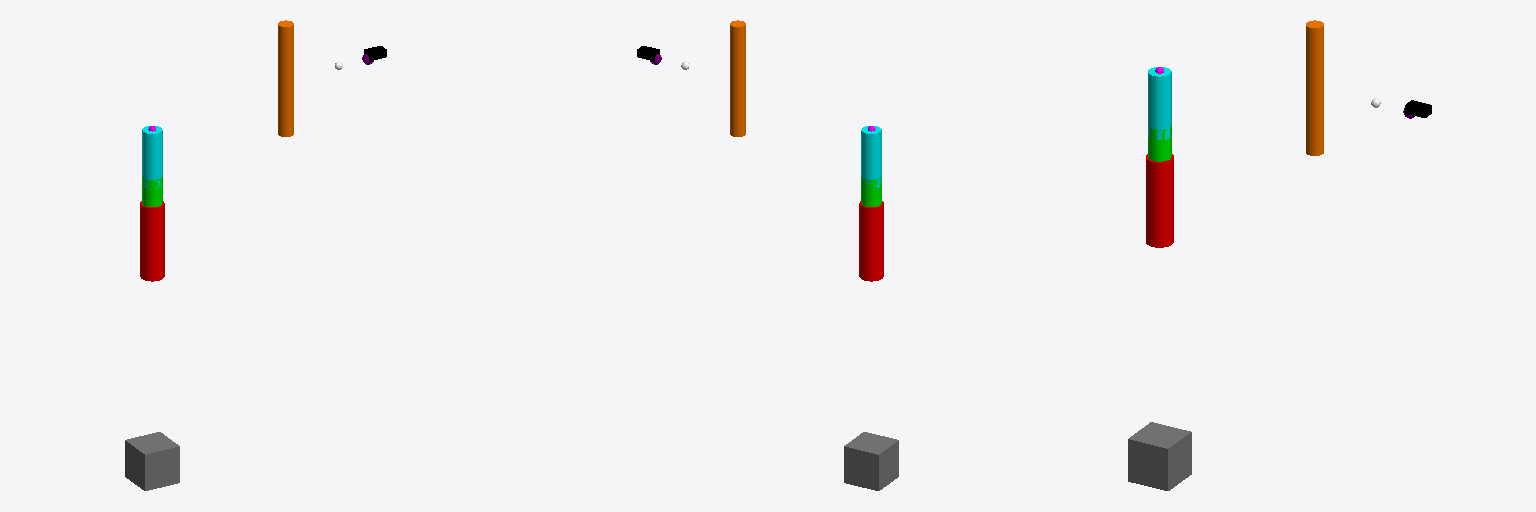
robot.urdf — pragati_robot:
<?xml version="1.0"?>
<robot name="pragati_robot">
  
  <!-- Base link -->
  <link name="base_link">
    <visual>
      <geometry>
        <box size="0.1 0.1 0.1"/>
      </geometry>
      <material name="grey">
        <color rgba="0.5 0.5 0.5 1"/>
      </material>
    </visual>
    <inertial>
      <mass value="1.0"/>
      <inertia ixx="1.0" ixy="0.0" ixz="0.0" iyy="1.0" iyz="0.0" izz="1.0"/>
    </inertial>
  </link>

  <!-- Yanthra origin link - the main reference frame -->
  <link name="yanthra_link">
    <visual>
      <geometry>
        <cylinder radius="0.05" length="0.02"/>
      </geometry>
      <material name="blue">
        <color rgba="0.0 0.0 1.0 1"/>
      </material>
    </visual>
    <inertial>
      <mass value="0.1"/>
      <inertia ixx="0.1" ixy="0.0" ixz="0.0" iyy="0.1" iyz="0.0" izz="0.1"/>
    </inertial>
  </link>

  <!-- Joint2 link (prismatic - height/vertical movement) -->
  <link name="joint2">
    <visual>
      <geometry>
        <cylinder radius="0.03" length="0.2"/>
      </geometry>
      <material name="red">
        <color rgba="1.0 0.0 0.0 1"/>
      </material>
    </visual>
    <inertial>
      <mass value="0.5"/>
      <inertia ixx="0.5" ixy="0.0" ixz="0.0" iyy="0.5" iyz="0.0" izz="0.5"/>
    </inertial>
  </link>

  <!-- Joint3 link (revolute - phi/vertical rotation) -->
  <link name="joint3">
    <visual>
      <geometry>
        <cylinder radius="0.025" length="0.15"/>
      </geometry>
      <material name="green">
        <color rgba="0.0 1.0 0.0 1"/>
      </material>
    </visual>
    <inertial>
      <mass value="0.3"/>
      <inertia ixx="0.3" ixy="0.0" ixz="0.0" iyy="0.3" iyz="0.0" izz="0.3"/>
    </inertial>
  </link>

  <!-- Link3 - frame used for coordinate transformations -->
  <link name="link3">
    <visual>
      <geometry>
        <sphere radius="0.01"/>
      </geometry>
      <material name="yellow">
        <color rgba="1.0 1.0 0.0 1"/>
      </material>
    </visual>
    <inertial>
      <mass value="0.01"/>
      <inertia ixx="0.01" ixy="0.0" ixz="0.0" iyy="0.01" iyz="0.0" izz="0.01"/>
    </inertial>
  </link>

  <!-- Joint4 link (revolute - theta/horizontal rotation) -->
  <link name="joint4">
    <visual>
      <geometry>
        <cylinder radius="0.025" length="0.15"/>
      </geometry>
      <material name="cyan">
        <color rgba="0.0 1.0 1.0 1"/>
      </material>
    </visual>
    <inertial>
      <mass value="0.3"/>
      <inertia ixx="0.3" ixy="0.0" ixz="0.0" iyy="0.3" iyz="0.0" izz="0.3"/>
    </inertial>
  </link>

  <!-- Link4 - frame used for coordinate transformations -->
  <link name="link4">
    <visual>
      <geometry>
        <sphere radius="0.01"/>
      </geometry>
      <material name="magenta">
        <color rgba="1.0 0.0 1.0 1"/>
      </material>
    </visual>
    <inertial>
      <mass value="0.01"/>
      <inertia ixx="0.01" ixy="0.0" ixz="0.0" iyy="0.01" iyz="0.0" izz="0.01"/>
    </inertial>
  </link>

  <!-- Joint5 link (prismatic - r/radial extension) -->
  <link name="joint5">
    <visual>
      <geometry>
        <cylinder radius="0.02" length="0.3"/>
      </geometry>
      <material name="orange">
        <color rgba="1.0 0.5 0.0 1"/>
      </material>
    </visual>
    <inertial>
      <mass value="0.2"/>
      <inertia ixx="0.2" ixy="0.0" ixz="0.0" iyy="0.2" iyz="0.0" izz="0.2"/>
    </inertial>
  </link>

  <!-- Link5 - frame used for coordinate transformations -->
  <link name="link5">
    <visual>
      <geometry>
        <sphere radius="0.01"/>
      </geometry>
      <material name="white">
        <color rgba="1.0 1.0 1.0 1"/>
      </material>
    </visual>
    <inertial>
      <mass value="0.01"/>
      <inertia ixx="0.01" ixy="0.0" ixz="0.0" iyy="0.01" iyz="0.0" izz="0.01"/>
    </inertial>
  </link>

  <!-- Link5 origin - end effector reference frame -->
  <link name="link5_origin">
    <visual>
      <geometry>
        <sphere radius="0.015"/>
      </geometry>
      <material name="purple">
        <color rgba="0.5 0.0 0.5 1"/>
      </material>
    </visual>
    <inertial>
      <mass value="0.05"/>
      <inertia ixx="0.05" ixy="0.0" ixz="0.0" iyy="0.05" iyz="0.0" izz="0.05"/>
    </inertial>
  </link>

  <!-- Camera link (if camera is enabled) -->
  <link name="camera_link">
    <visual>
      <geometry>
        <box size="0.05 0.03 0.02"/>
      </geometry>
      <material name="black">
        <color rgba="0.0 0.0 0.0 1"/>
      </material>
    </visual>
    <inertial>
      <mass value="0.1"/>
      <inertia ixx="0.1" ixy="0.0" ixz="0.0" iyy="0.1" iyz="0.0" izz="0.1"/>
    </inertial>
  </link>

  <!-- JOINTS -->

  <!-- Base to yanthra_link -->
  <joint name="base_to_yanthra" type="fixed">
    <parent link="base_link"/>
    <child link="yanthra_link"/>
    <origin xyz="0 0 0" rpy="0 0 0"/>
  </joint>

  <!-- Joint2 - Prismatic (height control) -->
  <joint name="joint2_joint" type="prismatic">
    <parent link="yanthra_link"/>
    <child link="joint2"/>
    <origin xyz="0 0 0.1" rpy="0 0 0"/>
    <axis xyz="0 0 1"/>
    <limit lower="0.01" upper="1.0" effort="100" velocity="2.0"/>
  </joint>

  <!-- Joint3 - Revolute (phi - vertical rotation) -->
  <joint name="joint3_joint" type="revolute">
    <parent link="joint2"/>
    <child link="joint3"/>
    <origin xyz="0 0 0.1" rpy="0 0 0"/>
    <axis xyz="0 0 1"/>
    <limit lower="-3.14159" upper="3.14159" effort="50" velocity="2.0"/>
  </joint>

  <!-- Link3 reference frame -->
  <joint name="joint3_to_link3" type="fixed">
    <parent link="joint3"/>
    <child link="link3"/>
    <origin xyz="0 0 0.075" rpy="0 0 0"/>
  </joint>

  <!-- Joint4 - Revolute (theta - horizontal rotation) -->
  <joint name="joint4_joint" type="revolute">
    <parent link="link3"/>
    <child link="joint4"/>
    <origin xyz="0 0 0.05" rpy="0 0 0"/>
    <axis xyz="0 1 0"/>
    <limit lower="-3.14159" upper="3.14159" effort="50" velocity="2.0"/>
  </joint>

  <!-- Link4 reference frame -->
  <joint name="joint4_to_link4" type="fixed">
    <parent link="joint4"/>
    <child link="link4"/>
    <origin xyz="0 0 0.075" rpy="0 0 0"/>
  </joint>

  <!-- Joint5 - Prismatic (r - radial extension) -->
  <joint name="joint5_joint" type="prismatic">
    <parent link="link4"/>
    <child link="joint5"/>
    <origin xyz="0 0 0.05" rpy="0 0 0"/>
    <axis xyz="1 0 0"/>
    <limit lower="0.162" upper="0.601" effort="30" velocity="1.1"/>
  </joint>

  <!-- Link5 reference frame -->
  <joint name="joint5_to_link5" type="fixed">
    <parent link="joint5"/>
    <child link="link5"/>
    <origin xyz="0.15 0 0" rpy="0 0 0"/>
  </joint>

  <!-- Link5 origin - end effector frame -->
  <joint name="link5_to_origin" type="fixed">
    <parent link="link5"/>
    <child link="link5_origin"/>
    <origin xyz="0.085 0 0" rpy="0 0 0"/>
  </joint>

  <!-- Camera link (mounted on link5_origin) -->
  <joint name="camera_mount" type="fixed">
    <parent link="link5_origin"/>
    <child link="camera_link"/>
    <origin xyz="0.02 0 0.01" rpy="0 0 0"/>
  </joint>

</robot>

--- What the picture shows (computed from the rendered views, not written in the file) ---
Views: 3 orthographic renders of the robot side by side, from view 1: azimuth 30°, elevation 25°; view 2: azimuth 150°, elevation 25°; view 3: azimuth 330°, elevation 25°.
Robot: pragati_robot — 11 links, 10 joints (2 revolute, 2 prismatic, 6 fixed); root link base_link; default pose: joints at zero except 2 at the middle of their limits (joint2_joint = 0.505, joint5_joint = 0.3815).
Links seen in each view (by area): view 1: base_link, joint2, joint5, joint4; view 2: base_link, joint2, joint5, joint4; view 3: base_link, joint2, joint5, joint4, joint3.
Link boxes in pixels (x1,y1,x2,y2): base_link: (125,432,179,490); joint2: (140,201,164,281); joint5: (278,20,293,136); joint4: (142,126,162,188); base_link: (844,432,898,490); joint2: (859,201,883,281); joint5: (730,20,745,136); joint4: (861,126,881,188); base_link: (1128,422,1191,490); joint2: (1146,154,1173,247); joint5: (1306,20,1323,155); joint4: (1148,67,1171,139); joint3: (1148,125,1171,161).
Bounding box of the posed robot: 0.7115 × 0.1 × 1.16 m (x, y, z).
Geometry: primitives only (box / cylinder / sphere), no mesh files.
